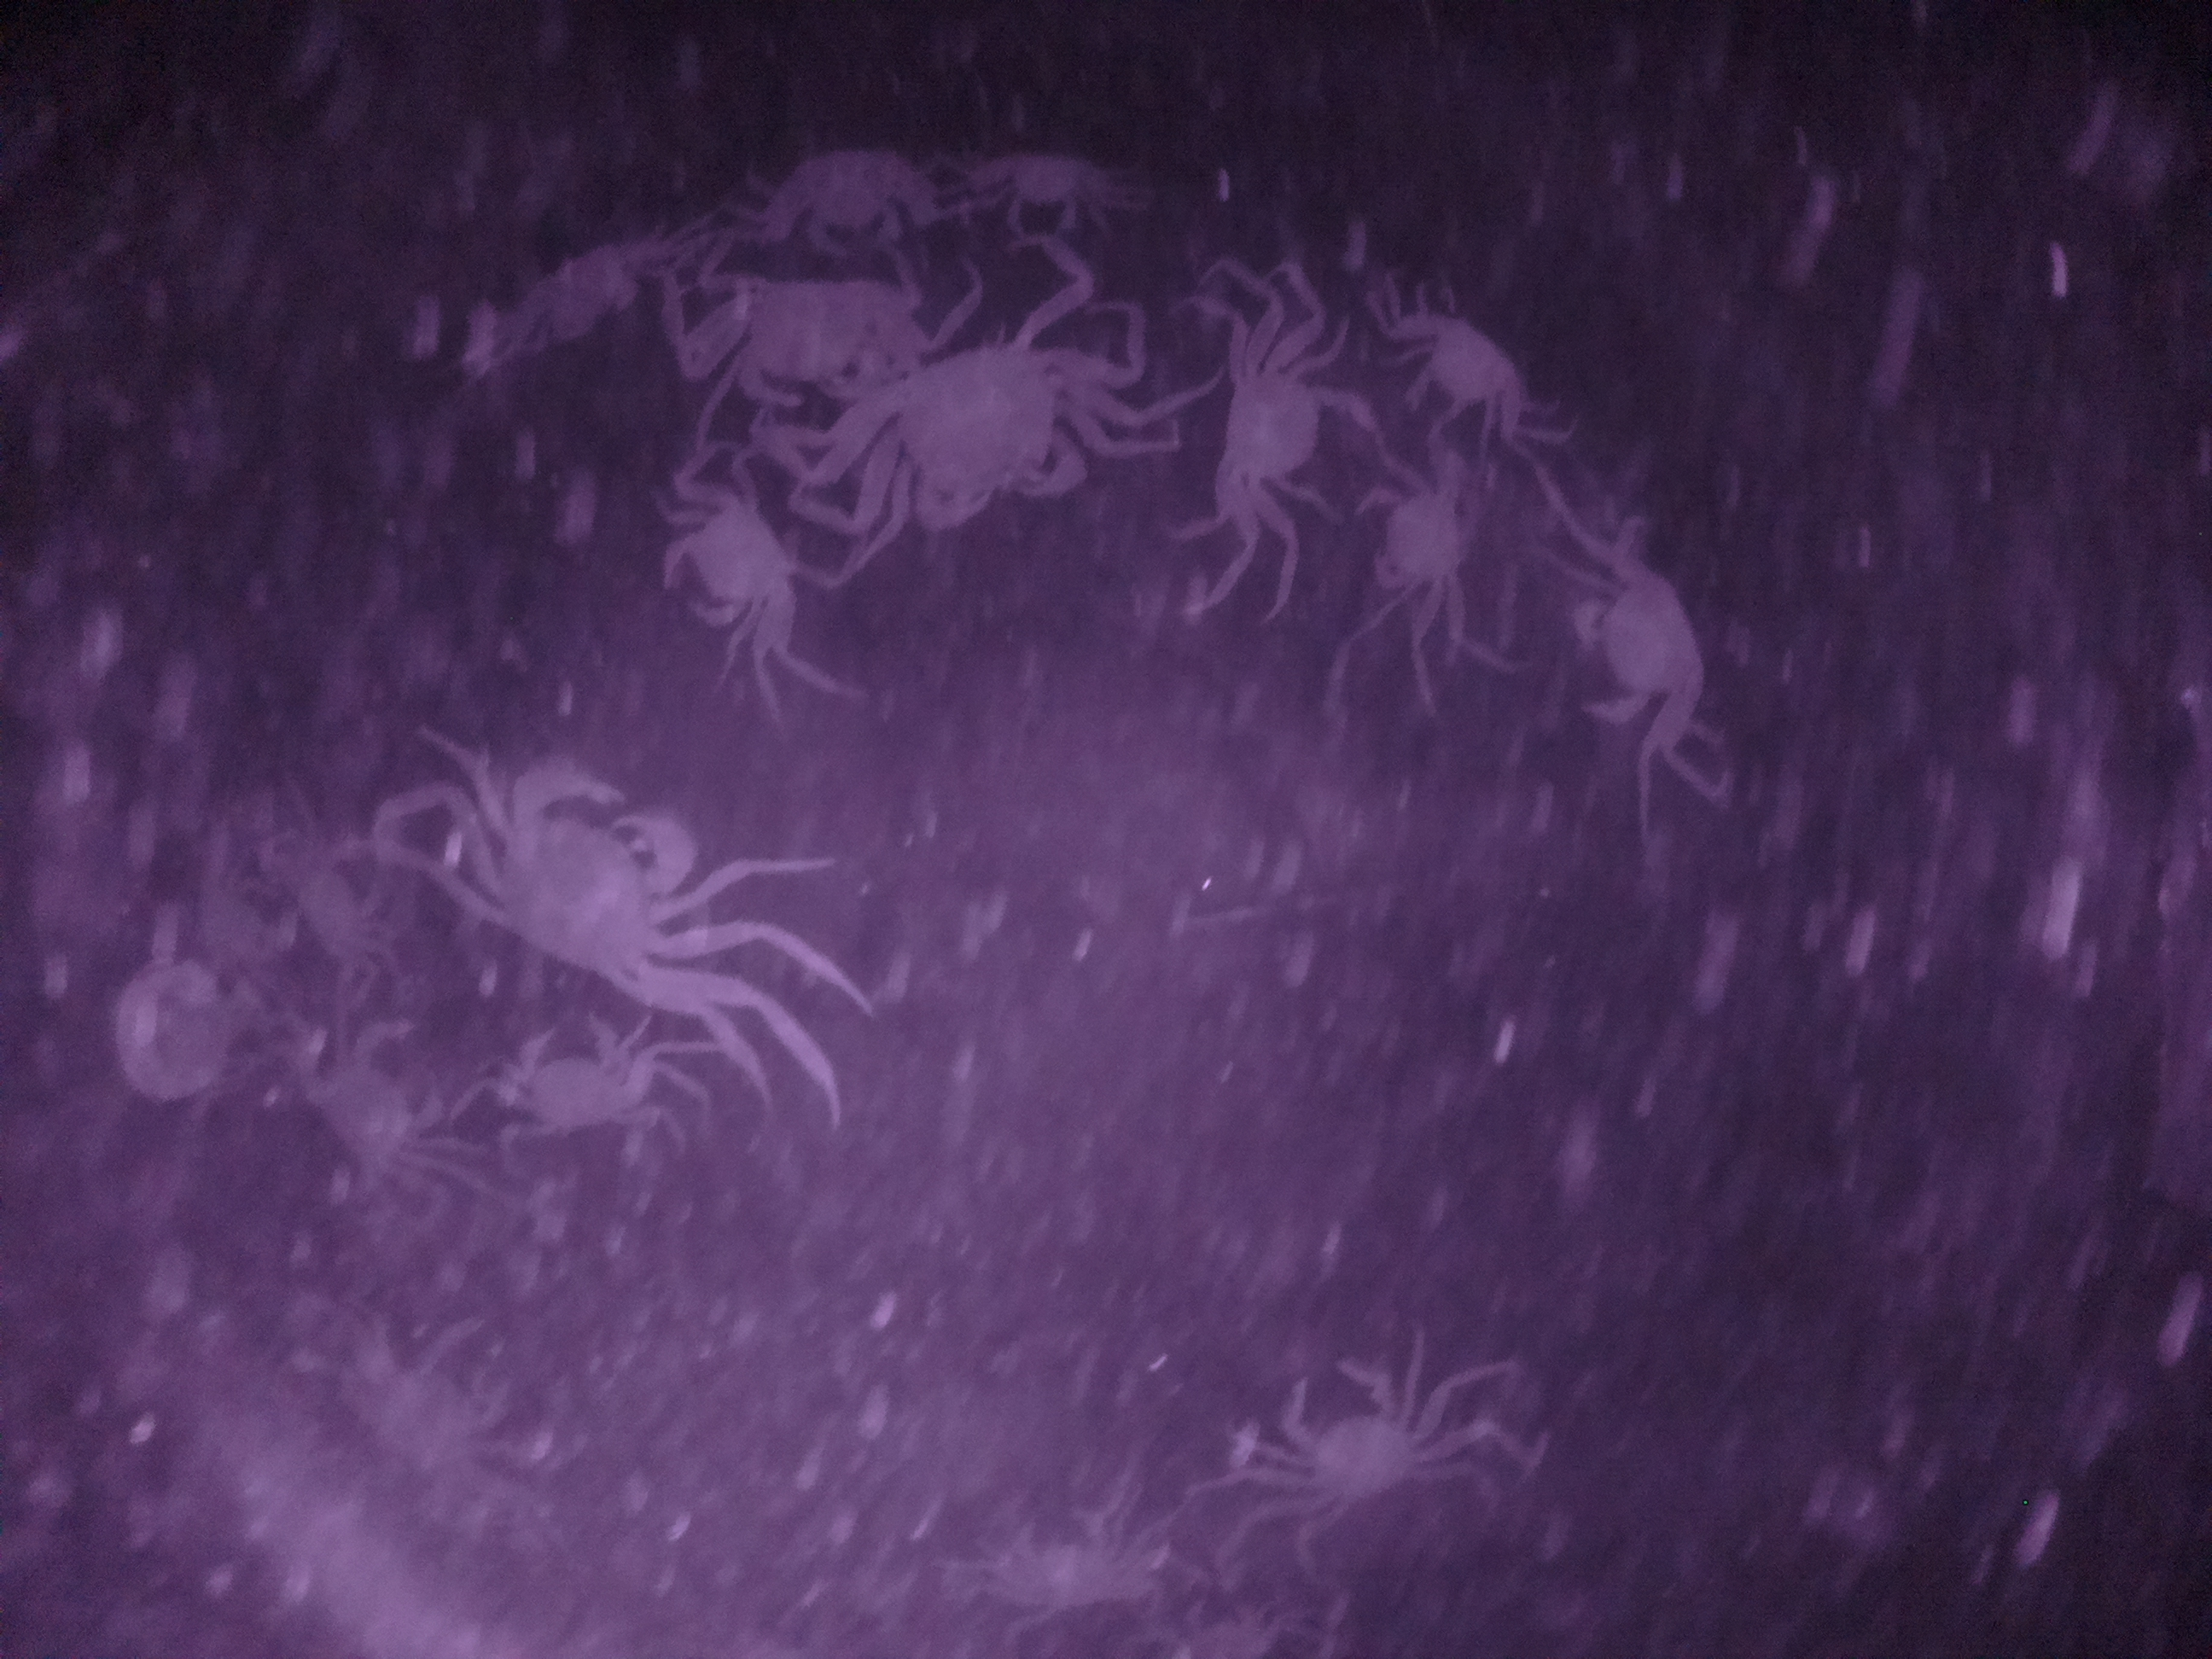Crab: (456, 755, 716, 1007), (855, 315, 1094, 551), (1259, 1340, 1437, 1539), (1200, 347, 1379, 526), (1559, 556, 1728, 742), (646, 498, 796, 647)
